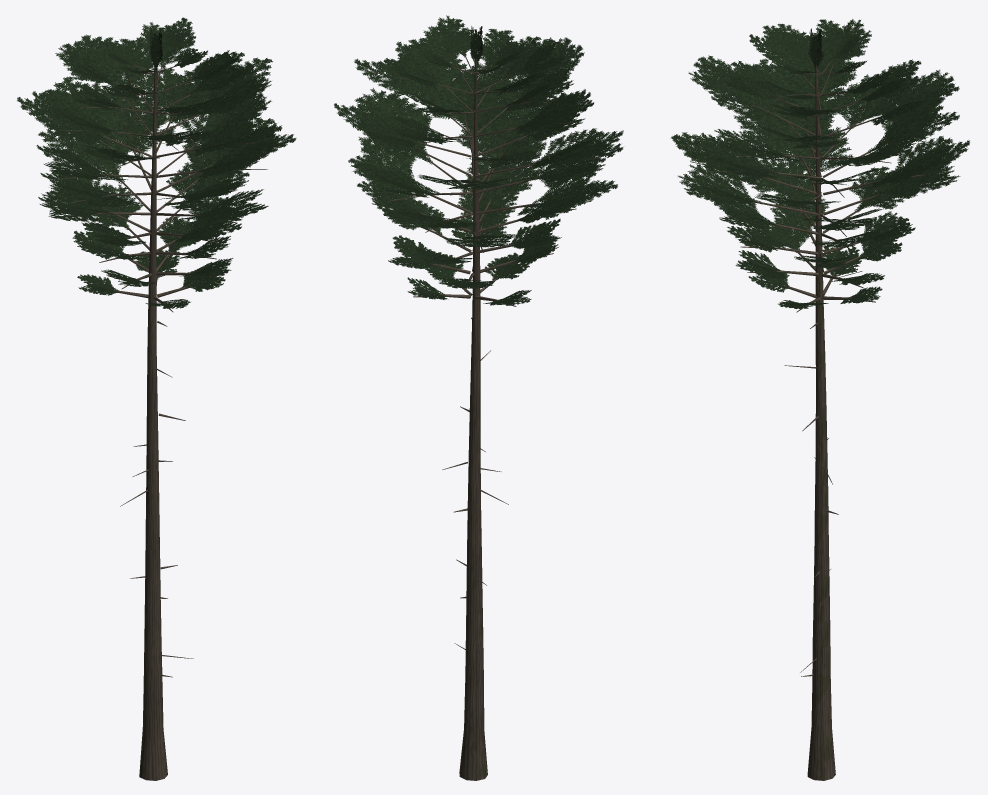
Rendered from S7U_Pine_A.fbx.
3 views of the same model, side by side, from view 1: azimuth 30°, elevation 25°; view 2: azimuth 150°, elevation 25°; view 3: azimuth 270°, elevation 25° (orthographic).
Visible parts, largest first — view 1: S7U_Pine_A; view 2: S7U_Pine_A; view 3: S7U_Pine_A.
Part boxes in pixels (box(x1,y1,x2,y2)): S7U_Pine_A: box(17, 17, 296, 780); S7U_Pine_A: box(334, 15, 623, 780); S7U_Pine_A: box(670, 19, 969, 780).
Bounding box in the file's own units: 7.02 × 18.59 × 7.15.
